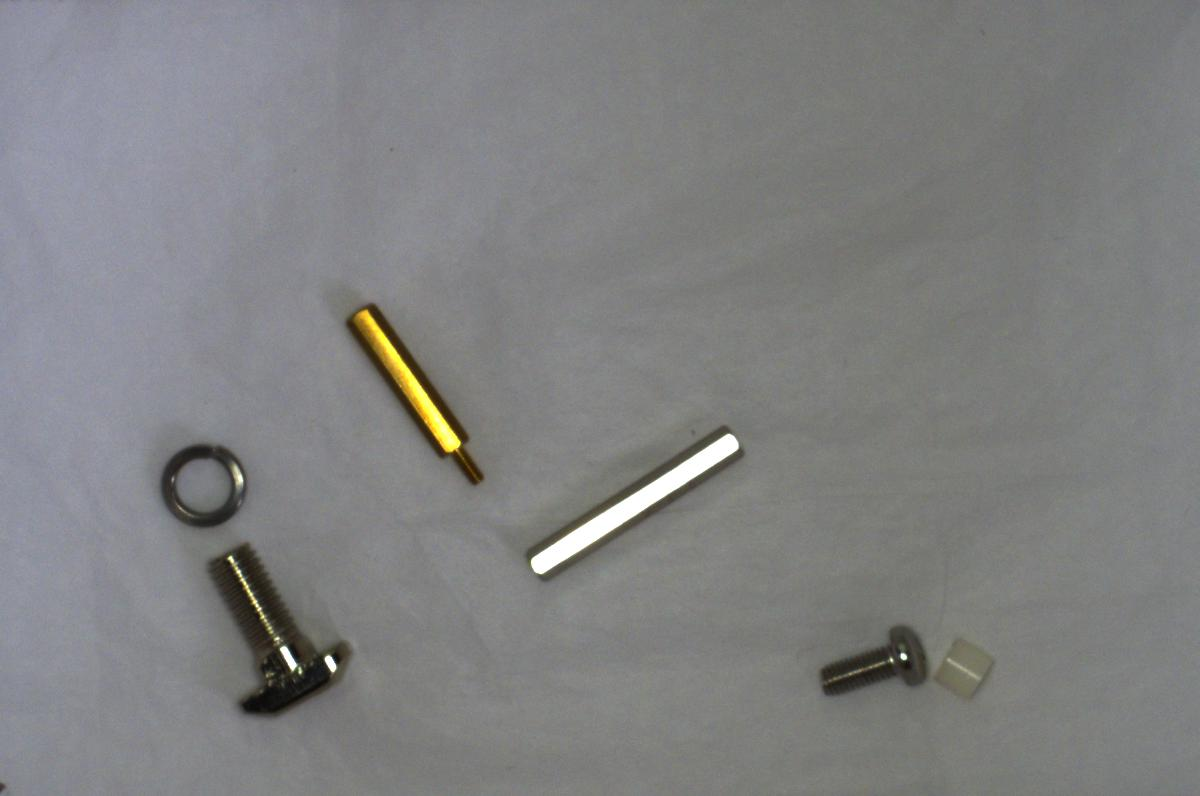Double hexagonal column: (518, 418, 748, 580)
Hexagon pillar: (346, 299, 484, 483)
Plastic cushion pillar: (926, 623, 1004, 706)
Round head screw: (808, 615, 934, 705)
Spring washer: (152, 436, 261, 533)
